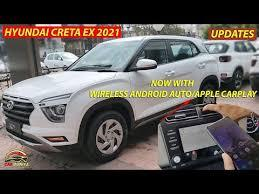Normal Automobiles: (2, 36, 219, 161), (204, 40, 255, 89), (44, 52, 77, 68)
